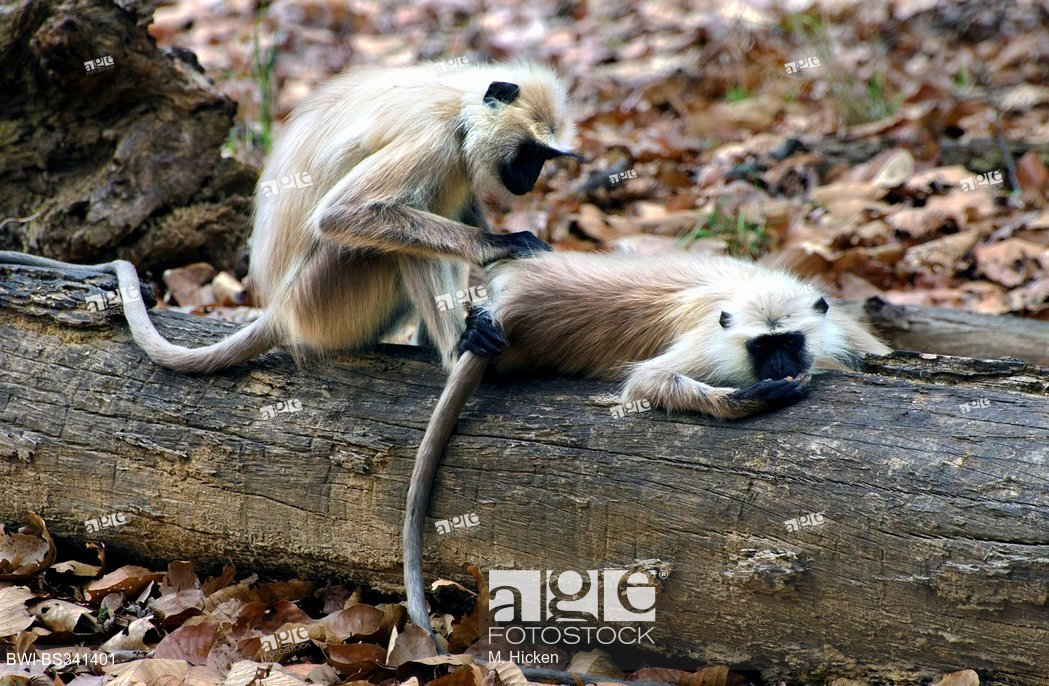langur: (58, 54, 574, 374), (415, 236, 866, 419)
